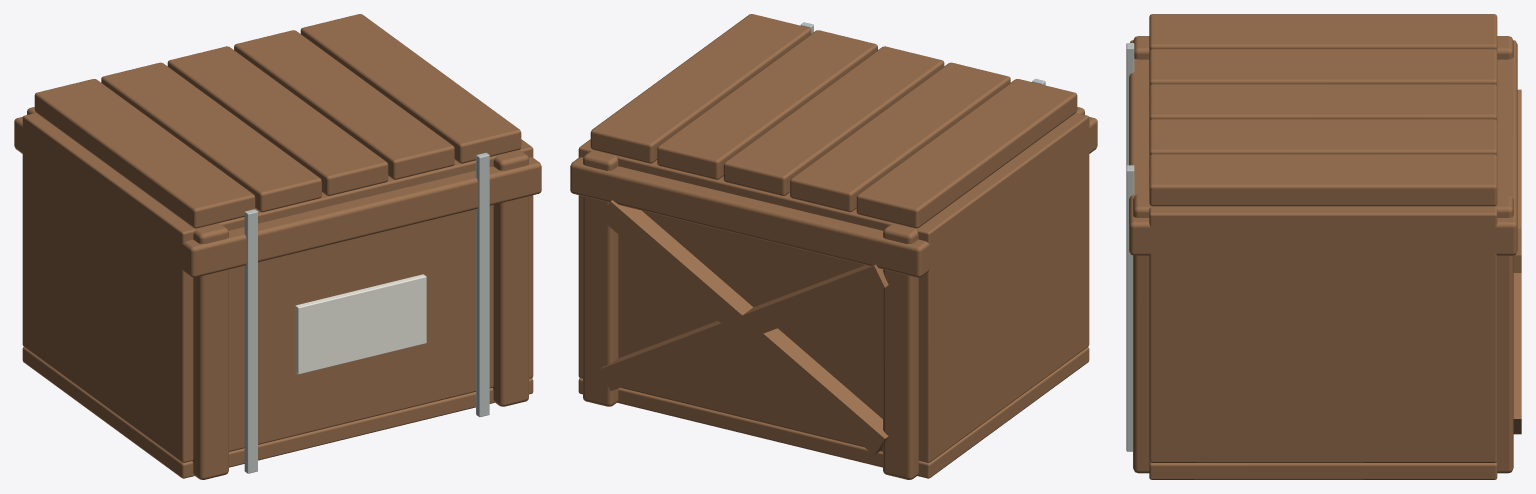
Rendered from tea-garden-and-processing-house-tea-garden-and-process-568291f1__30795.glb.
The picture shows the model from 3 angles, left to right: view 1: azimuth 30°, elevation 25°; view 2: azimuth 150°, elevation 25°; view 3: azimuth 270°, elevation 25°; orthographic projection. The views are drawn at different scales.
Parts seen in each view (by area): view 1: tea-garden-and-processing-house-shipping-tea-crate; view 2: tea-garden-and-processing-house-shipping-tea-crate; view 3: tea-garden-and-processing-house-shipping-tea-crate.
Boxes of the visible parts, x1,y1,x2,y2 form: tea-garden-and-processing-house-shipping-tea-crate: (14,14,541,479); tea-garden-and-processing-house-shipping-tea-crate: (570,14,1097,479); tea-garden-and-processing-house-shipping-tea-crate: (1126,14,1521,479).
Bounding box in the file's own units: 0.82 × 0.595 × 0.7375.
